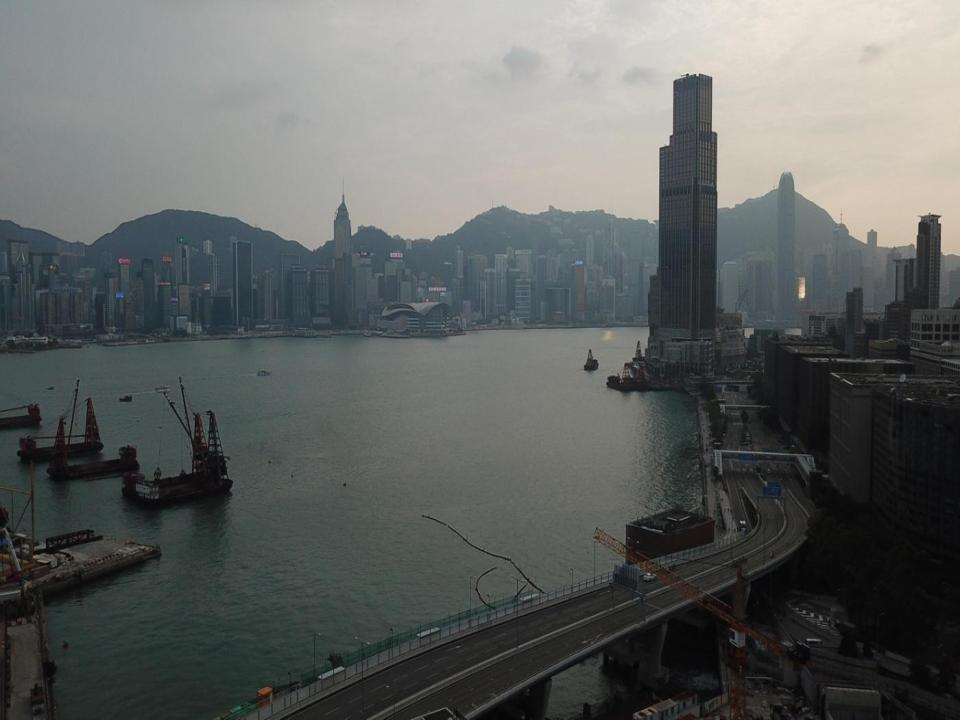bus: (740, 520, 745, 534)
car: (643, 571, 656, 581), (767, 469, 771, 474)
truck: (29, 682, 44, 714), (835, 620, 859, 640)
van: (805, 638, 824, 650)
